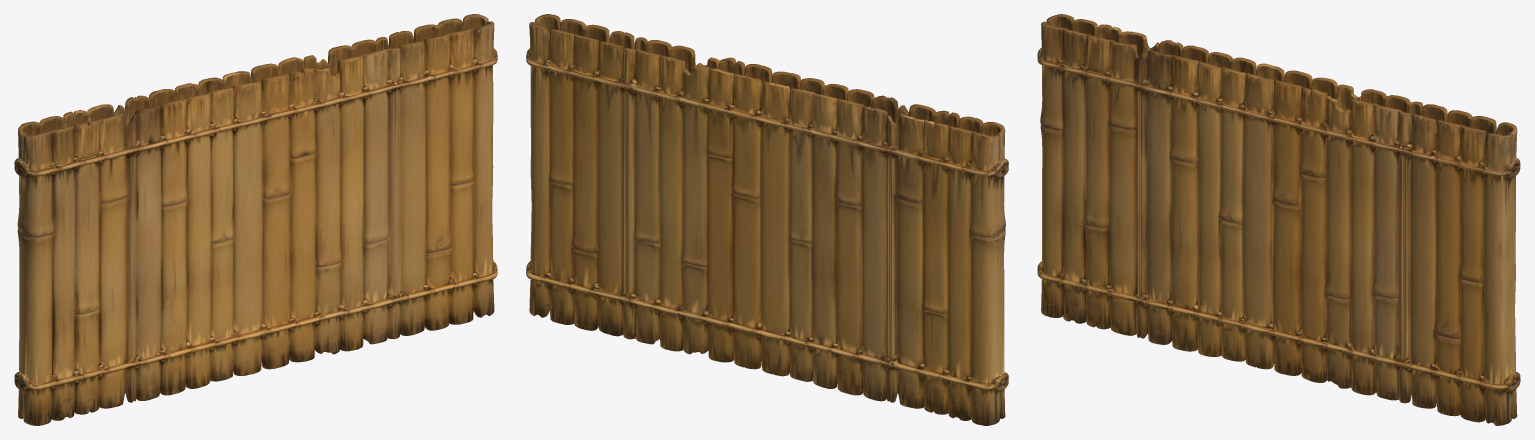
File: bamboo-notice-optimized.glb
3 views of the same model, side by side, from view 1: azimuth 30°, elevation 25°; view 2: azimuth 150°, elevation 25°; view 3: azimuth 330°, elevation 25° (orthographic).
Parts seen in each view (by area): view 1: node_0; view 2: node_0; view 3: node_0.
Part boxes in pixels (<box>): node_0: <box>14,14,497,425</box>; node_0: <box>526,14,1008,425</box>; node_0: <box>1037,14,1520,425</box>.
Bounding box in the file's own units: 1.05 × 0.617 × 0.0824.
1 material, 1 textured.
